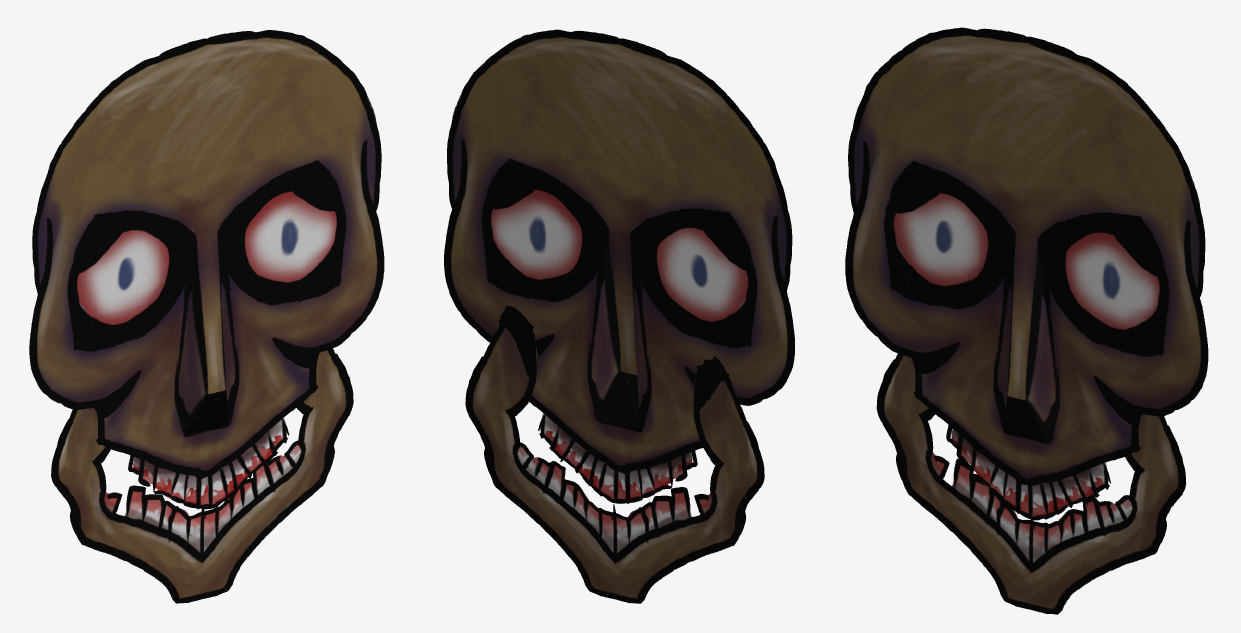
The model's file is mod_hangingFace.fbx.
3 views of the same model, side by side, from view 1: azimuth 30°, elevation 25°; view 2: azimuth 150°, elevation 25°; view 3: azimuth 330°, elevation 25° (orthographic). The views are drawn at different scales.
Parts seen in each view (by area): view 1: tex_hangingFace, tex_hangingFace.001; view 2: tex_hangingFace, tex_hangingFace.001; view 3: tex_hangingFace, tex_hangingFace.001.
Part boxes in pixels (x1,y1,x2,y2): tex_hangingFace: (29, 30, 384, 509); tex_hangingFace.001: (51, 348, 353, 603); tex_hangingFace: (444, 29, 794, 503); tex_hangingFace.001: (465, 306, 764, 603); tex_hangingFace: (845, 27, 1208, 520); tex_hangingFace.001: (876, 353, 1186, 614).
Size of the model in its own units: 2.4 by 3.42 by 0.1605.
